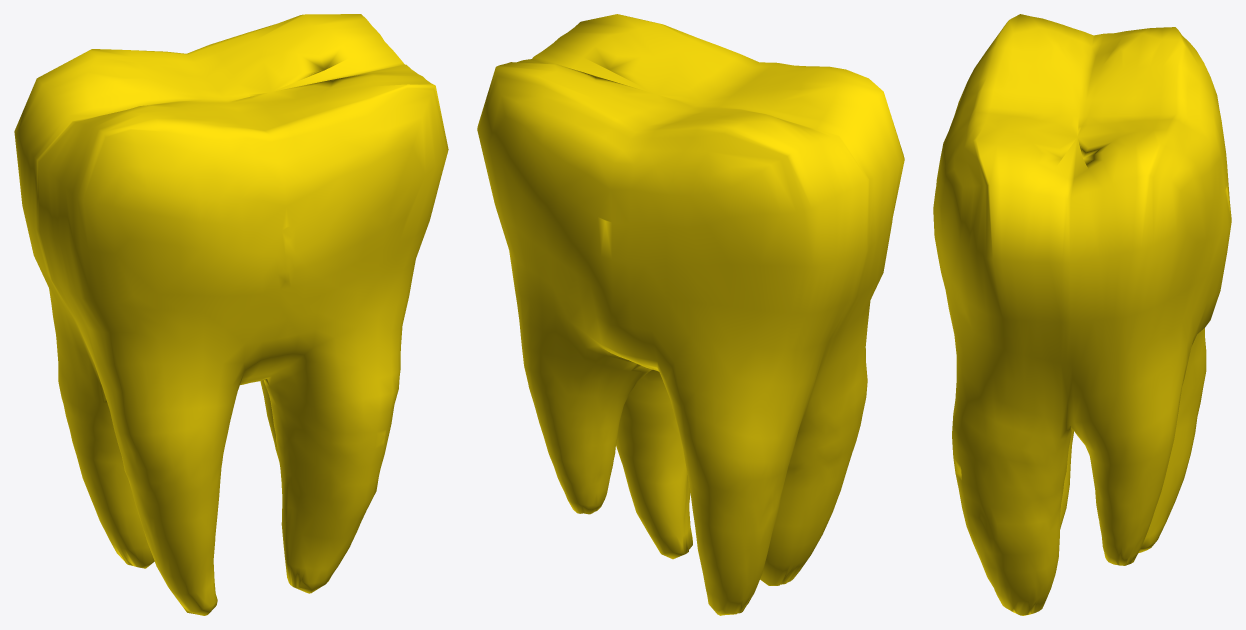
The model's file is Diente De Oro.glb.
The picture shows the model from 3 angles, left to right: view 1: azimuth 30°, elevation 25°; view 2: azimuth 150°, elevation 25°; view 3: azimuth 270°, elevation 25°; orthographic projection. The views are drawn at different scales.
Visible parts, largest first — view 1: tripo_node_7d7b98c0-8513-4cc2-b08d-c2cdc29ad711; view 2: tripo_node_7d7b98c0-8513-4cc2-b08d-c2cdc29ad711; view 3: tripo_node_7d7b98c0-8513-4cc2-b08d-c2cdc29ad711.
Boxes of the visible parts, x1,y1,x2,y2 form: tripo_node_7d7b98c0-8513-4cc2-b08d-c2cdc29ad711: [14, 14, 448, 615]; tripo_node_7d7b98c0-8513-4cc2-b08d-c2cdc29ad711: [477, 14, 904, 615]; tripo_node_7d7b98c0-8513-4cc2-b08d-c2cdc29ad711: [933, 14, 1231, 615].
Bounding box in the file's own units: 0.748 × 0.998 × 0.5293.
